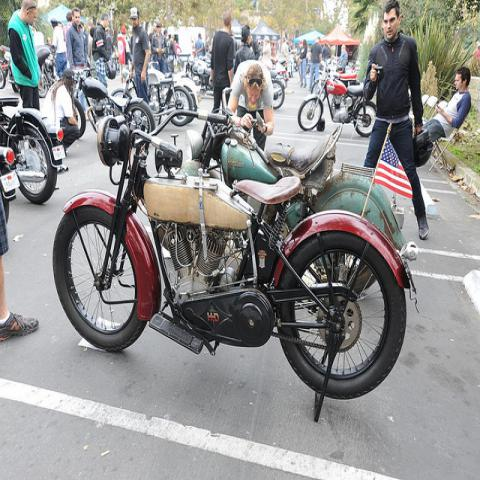motorcycle: (53, 79, 418, 424), (178, 84, 416, 252), (0, 95, 67, 203), (72, 67, 156, 138), (298, 65, 376, 136), (146, 63, 194, 126), (259, 56, 285, 110)
